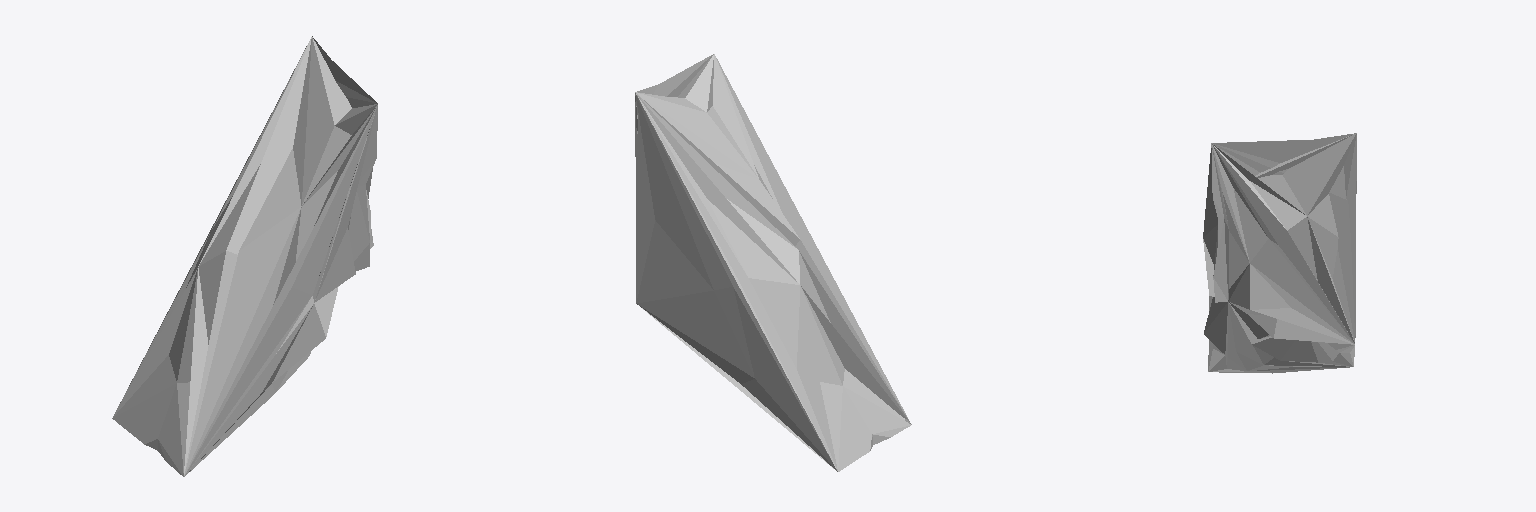
The model's file is RockModel.obj.
The picture shows the model from 3 angles: view 1: azimuth 30°, elevation 25°; view 2: azimuth 150°, elevation 25°; view 3: azimuth 270°, elevation 25°; orthographic projection.
Visible parts, largest first — view 1: RockModel; view 2: RockModel; view 3: RockModel.
Part boxes in pixels (left/top/right/bottom): RockModel: left=112, top=36, right=377, bottom=476; RockModel: left=635, top=54, right=911, bottom=471; RockModel: left=1203, top=133, right=1356, bottom=373.
Size of the model in its own units: 292 by 437 by 181.